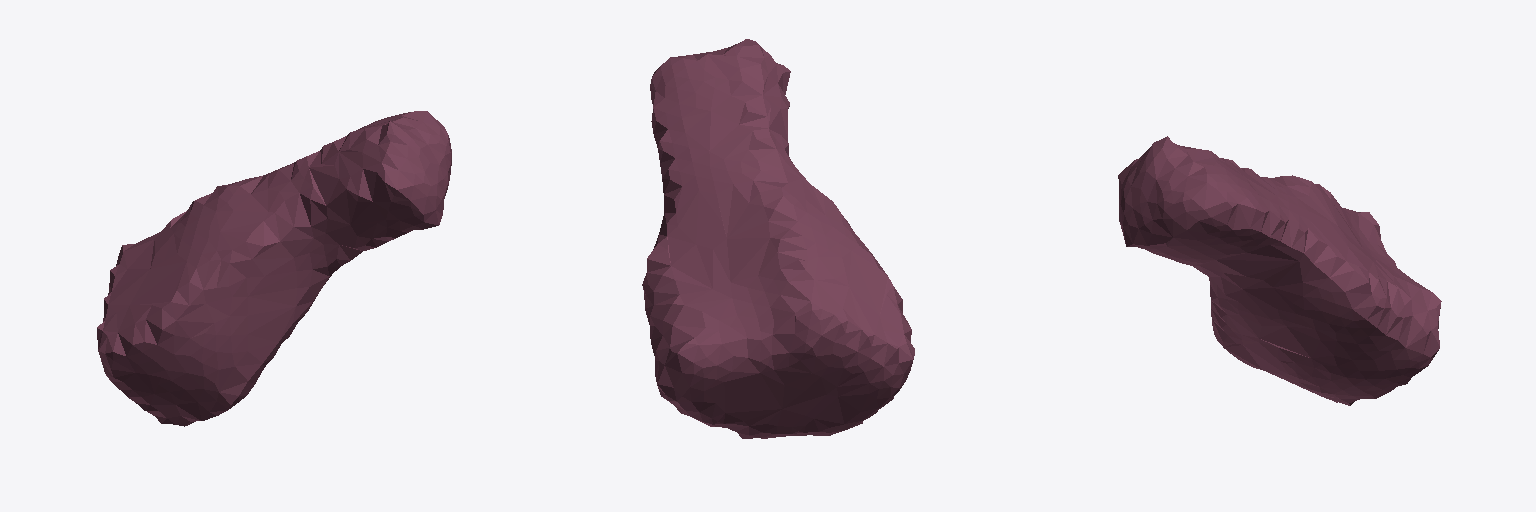
File: Model_32_RH__Area_4_of_cortex__part_c_(primary_motor)_(A4c).obj
3 views of the same model, side by side, from view 1: azimuth 30°, elevation 25°; view 2: azimuth 150°, elevation 25°; view 3: azimuth 270°, elevation 25° (orthographic).
Size of the model in its own units: 1.79 by 1.78 by 1.66.